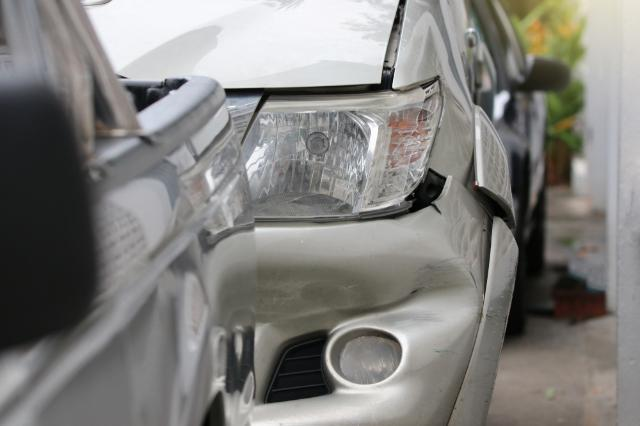crack: (431, 203, 442, 215)
dent: (340, 255, 482, 367)
lamp broken: (241, 78, 444, 222)
